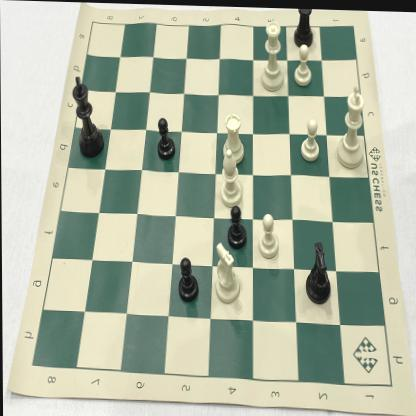black-king: (68, 72, 106, 161)
black-knight: (303, 235, 339, 306)
black-pawn: (224, 198, 249, 250), (175, 254, 200, 304), (154, 114, 178, 164)
black-rook: (291, 7, 316, 50)
white-bishop: (217, 145, 245, 210)
white-king: (334, 78, 369, 171)
white-knight: (209, 239, 242, 304)
white-pawn: (256, 206, 280, 263), (297, 113, 324, 163), (291, 42, 313, 88)
white-queen: (256, 14, 286, 93)
white-rook: (218, 107, 247, 166)
